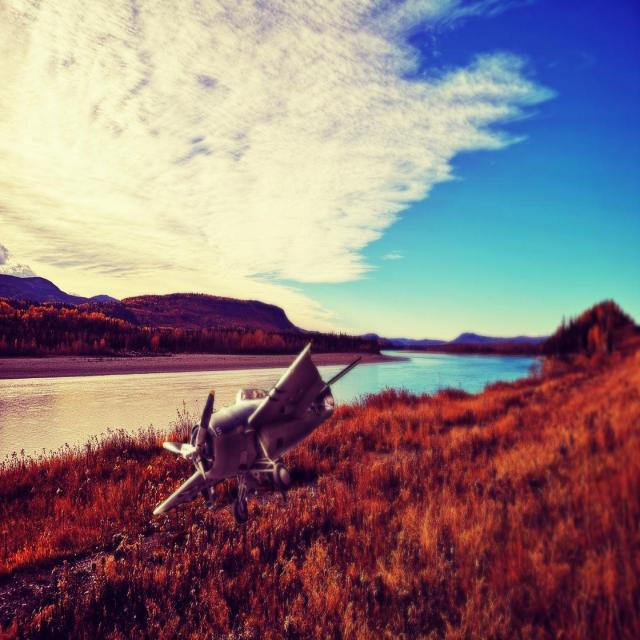airplane: (152, 340, 362, 524)
